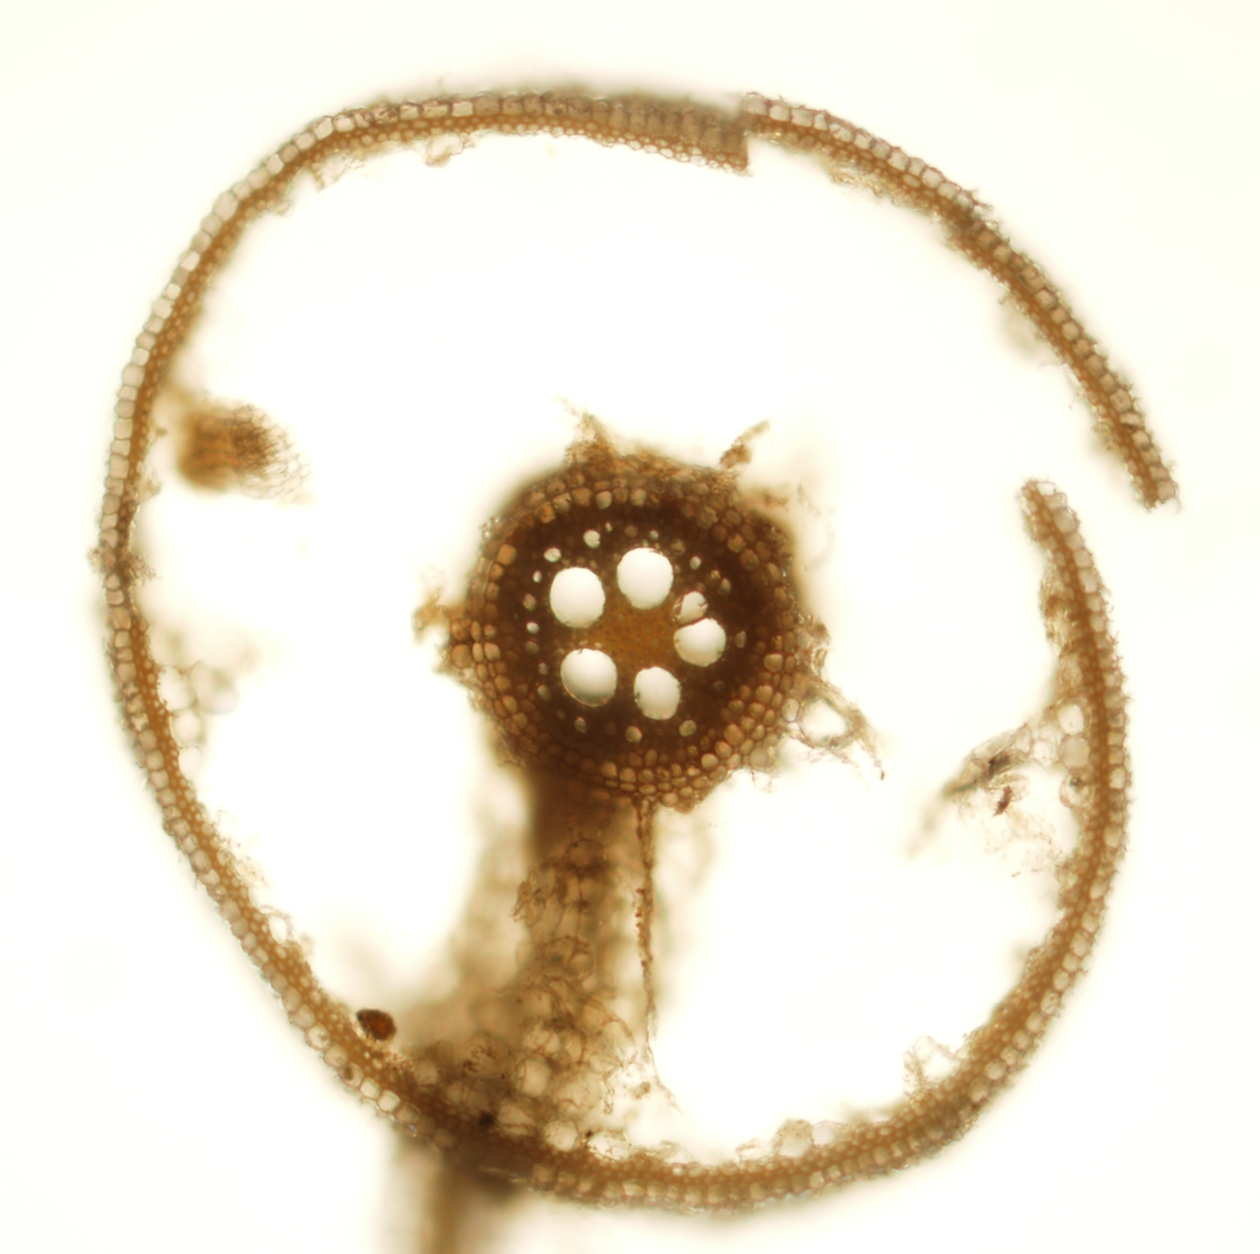lm: (616, 547, 674, 609), (561, 648, 618, 707), (549, 567, 605, 628), (674, 617, 726, 667), (634, 666, 681, 720), (673, 591, 709, 624)
